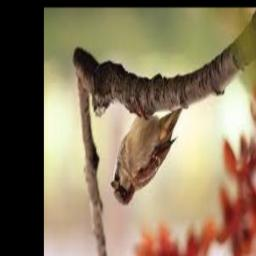Sparrow: (110, 108, 183, 205)
